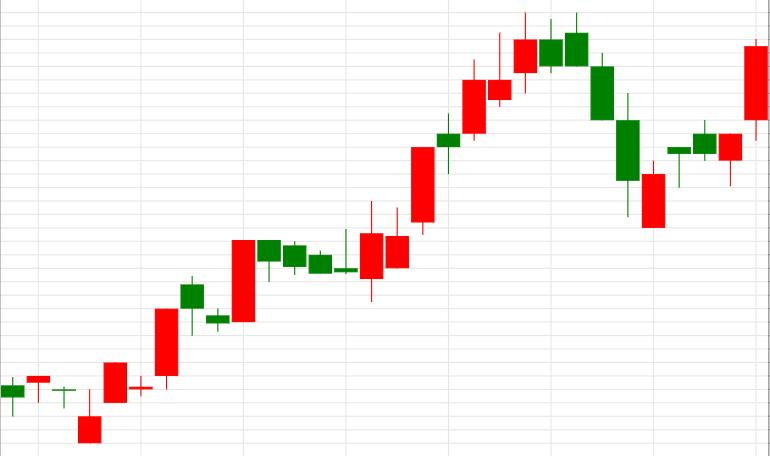three_black_crows_fall: (359, 11, 639, 302)
